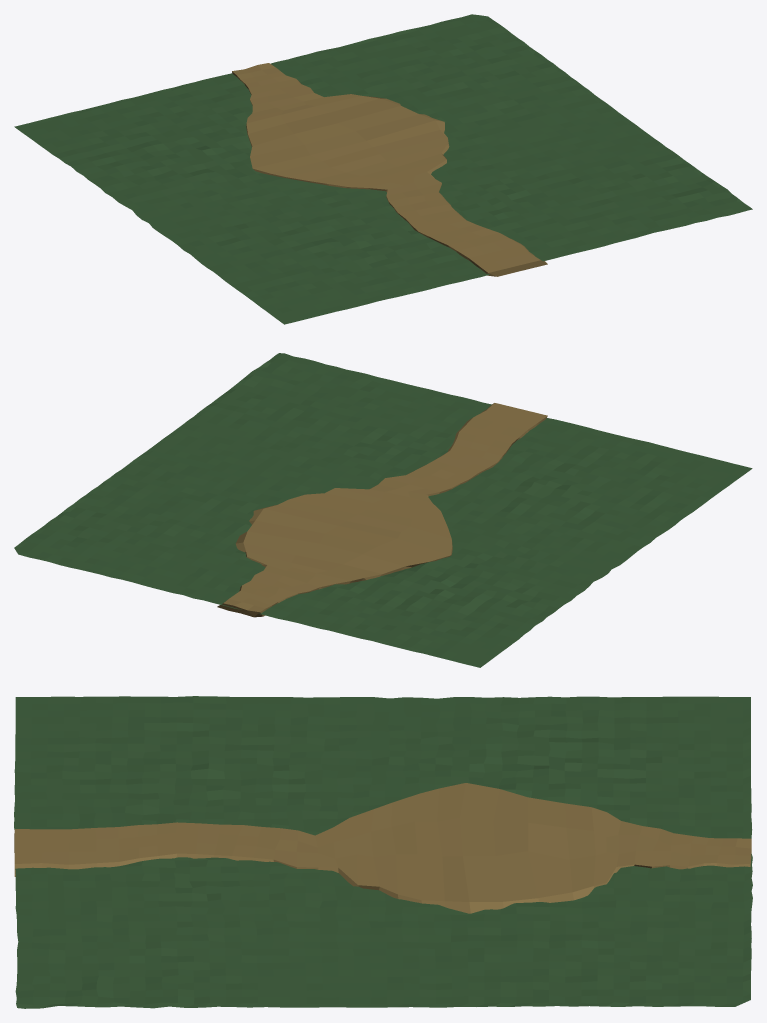
Rendered from athili_copse_first_section.glb.
3 renders of one model, top to bottom at view 1: azimuth 30°, elevation 25°; view 2: azimuth 150°, elevation 25°; view 3: azimuth 270°, elevation 25°, orthographic. The views are drawn at different scales.
Visible parts, largest first — view 1: Grass, Road; view 2: Grass, Road; view 3: Grass, Road.
Part boxes in pixels (x1=…): Grass: x1=14, y1=14, x2=752, y2=324; Road: x1=232, y1=63, x2=547, y2=276; Grass: x1=14, y1=353, x2=752, y2=667; Road: x1=217, y1=403, x2=547, y2=617; Grass: x1=14, y1=696, x2=752, y2=1008; Road: x1=14, y1=783, x2=751, y2=913.
Bounding box in the file's own units: 59.36 × 1.09 × 59.44.
